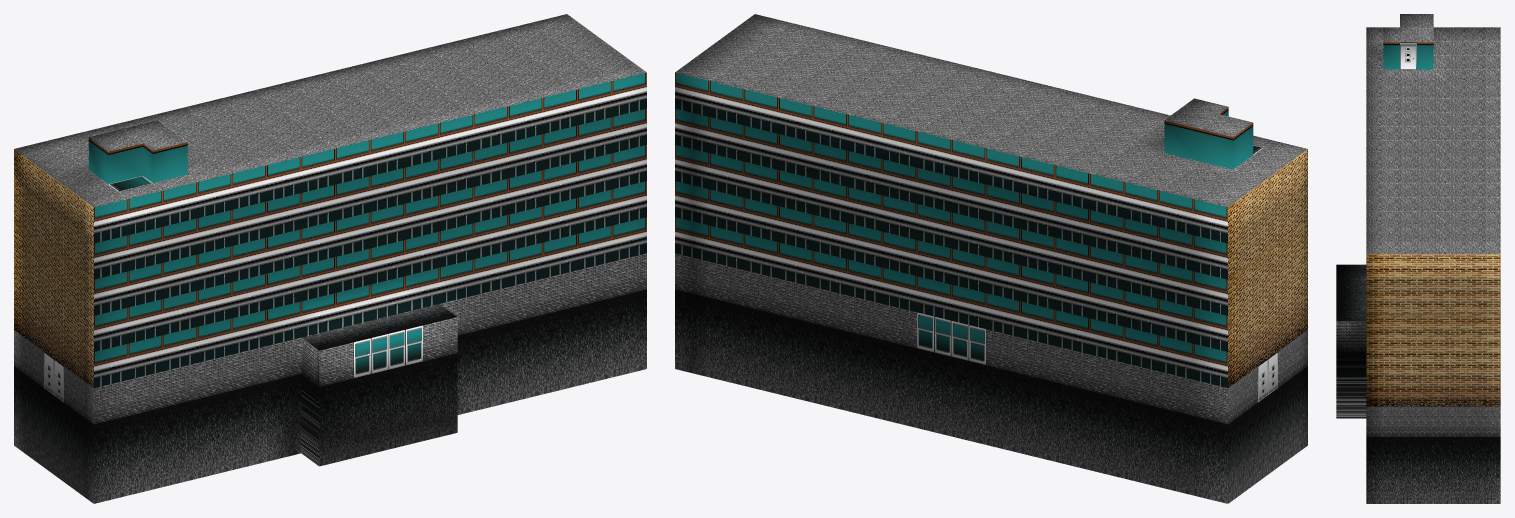
The model's file is kantoor_mod1_3b.fbx.
3 views of the same model, side by side, from view 1: azimuth 30°, elevation 25°; view 2: azimuth 150°, elevation 25°; view 3: azimuth 270°, elevation 25° (orthographic). The views are drawn at different scales.
Parts seen in each view (by area): view 1: kantoor_mod1_3b; view 2: kantoor_mod1_3b; view 3: kantoor_mod1_3b.
Part boxes in pixels (x1,y1,x2,y2): kantoor_mod1_3b: (14, 14, 646, 503); kantoor_mod1_3b: (675, 14, 1307, 503); kantoor_mod1_3b: (1336, 14, 1500, 503).
Size of the model in its own units: 5760 by 3276 by 1764.
